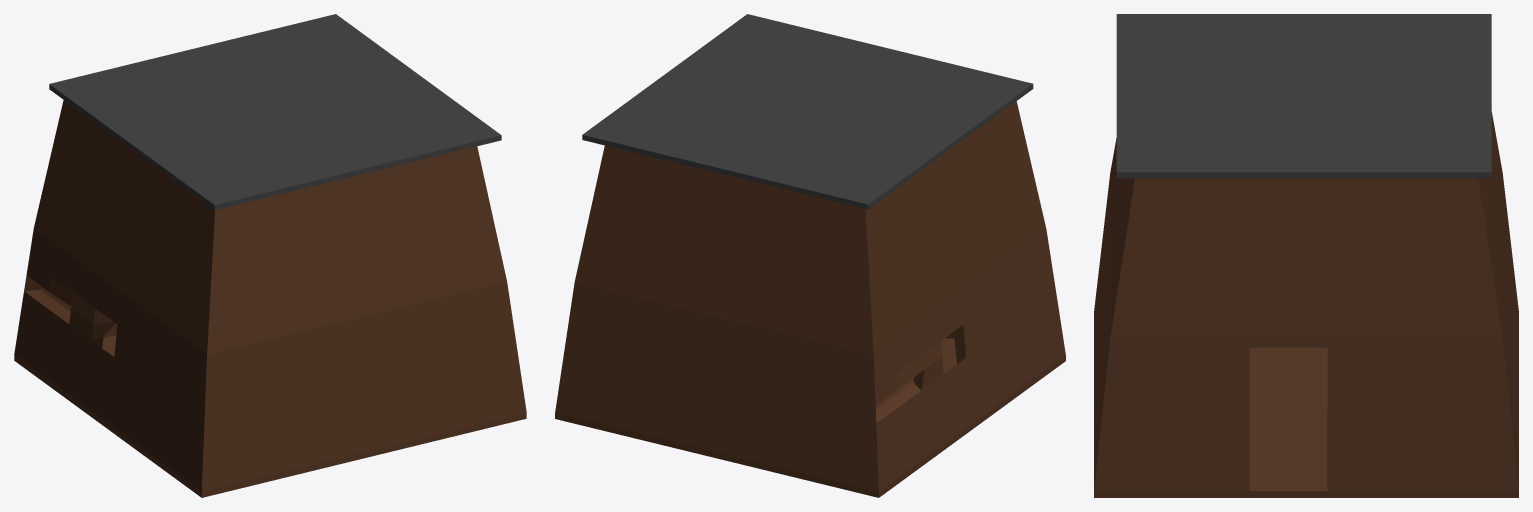
Rendered from CerbBuilding2.fbx.
3 renders of one model, left to right at view 1: azimuth 30°, elevation 25°; view 2: azimuth 150°, elevation 25°; view 3: azimuth 270°, elevation 25°, orthographic. The views are drawn at different scales.
Visible parts, largest first — view 1: Cube; view 2: Cube; view 3: Cube.
Part boxes in pixels (x1=…): Cube: x1=14, y1=14, x2=526, y2=497; Cube: x1=555, y1=14, x2=1065, y2=497; Cube: x1=1094, y1=14, x2=1518, y2=497.
Bounding box in the file's own units: 1492 × 1229 × 1492.
